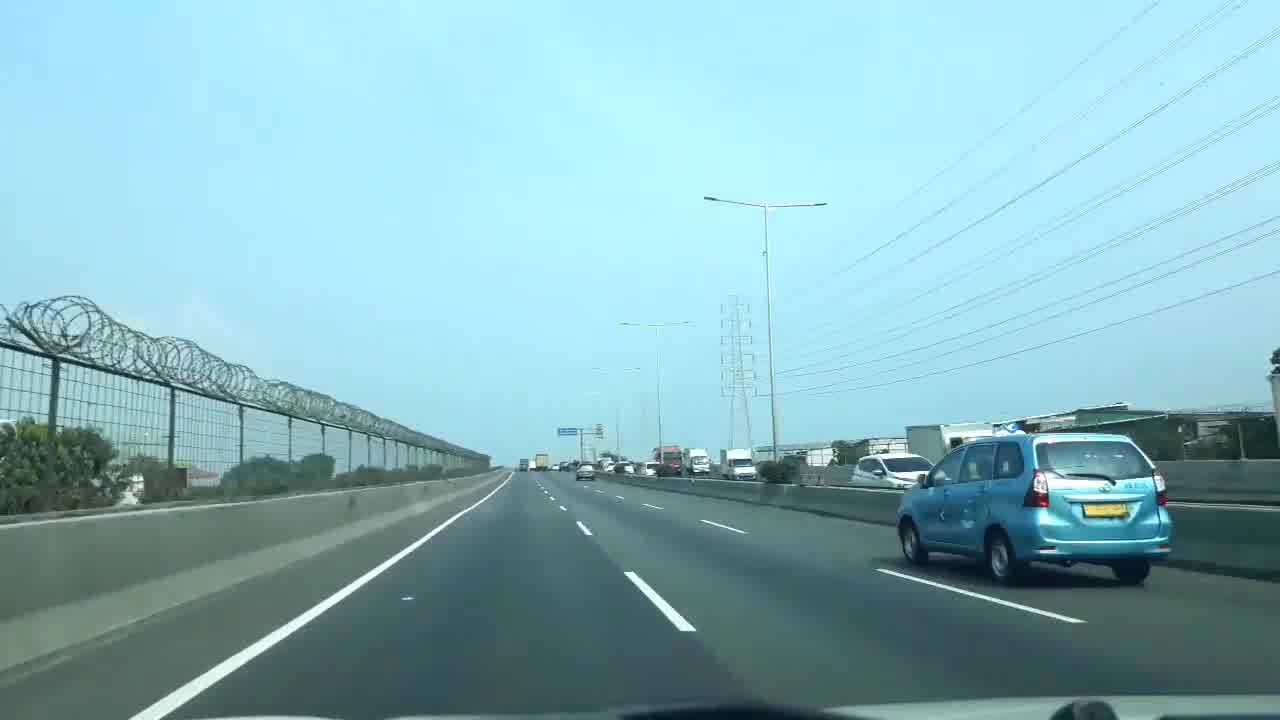plate_positive: (1082, 503, 1129, 518)
